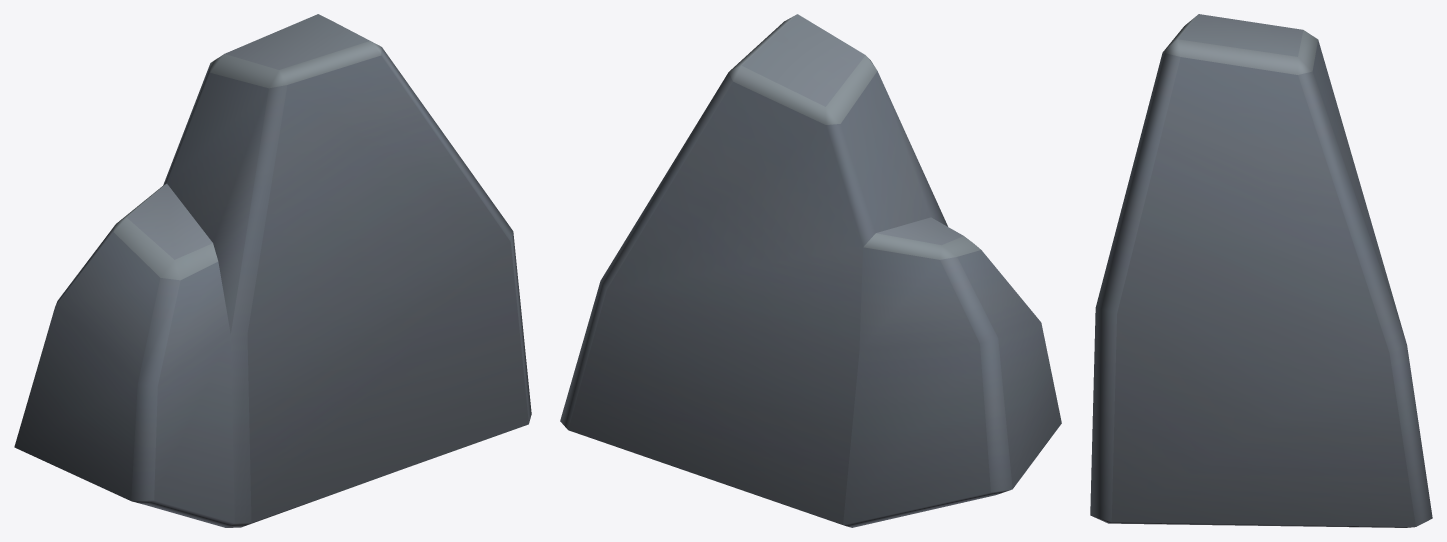
File: rock_024.fbx
3 views of the same model, side by side, from view 1: azimuth 30°, elevation 25°; view 2: azimuth 150°, elevation 25°; view 3: azimuth 270°, elevation 25° (orthographic). The views are drawn at different scales.
Parts seen in each view (by area): view 1: rock_024; view 2: rock_024; view 3: rock_024.
Part boxes in pixels (box(x1,y1,x2,y2)): rock_024: box(14, 14, 531, 527); rock_024: box(560, 14, 1061, 527); rock_024: box(1090, 14, 1432, 527).
Bounding box in the file's own units: 256 × 246 × 163.
